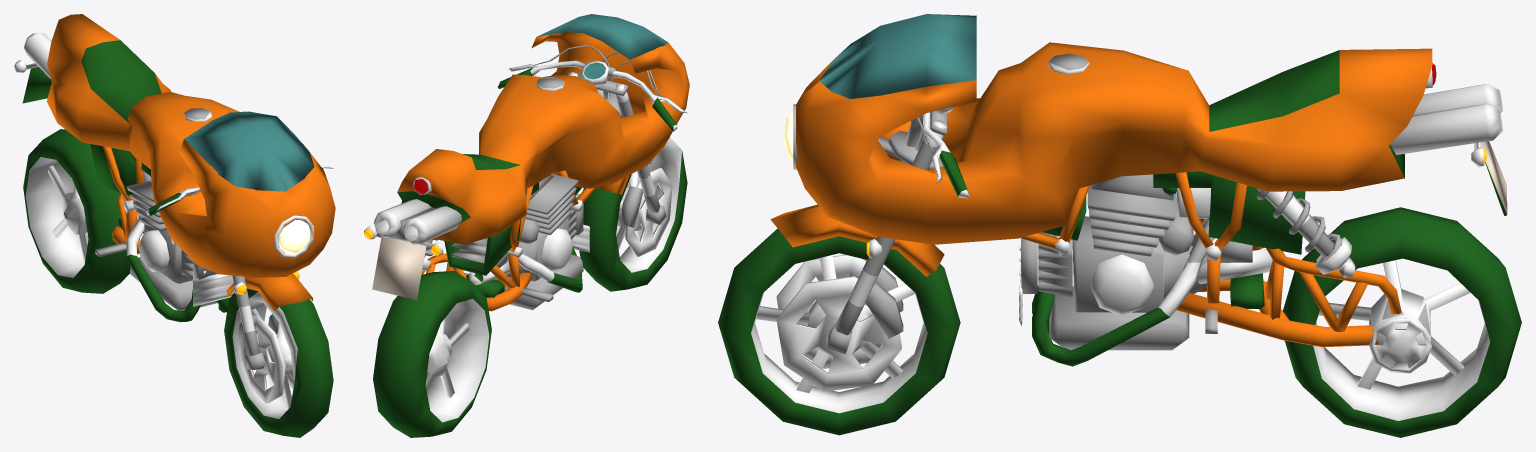
The model's file is sonmotorsaparate.fbx.
The picture shows the model from 3 angles, left to right: view 1: azimuth 30°, elevation 25°; view 2: azimuth 150°, elevation 25°; view 3: azimuth 270°, elevation 25°; orthographic projection. The views are drawn at different scales.
Parts seen in each view (by area): view 1: MotorBirlesik.121, TekerÖn, TekerArka; view 2: MotorBirlesik.121, TekerArka, TekerÖn; view 3: MotorBirlesik.121, TekerÖn, TekerArka.
Part boxes in pixels (x1=…): MotorBirlesik.121: x1=14, y1=14, x2=335, y2=355; TekerÖn: x1=224, y1=273, x2=333, y2=437; TekerArka: x1=23, y1=129, x2=139, y2=293; MotorBirlesik.121: x1=364, y1=14, x2=689, y2=311; TekerArka: x1=373, y1=271, x2=491, y2=437; TekerÖn: x1=579, y1=137, x2=687, y2=291; MotorBirlesik.121: x1=783, y1=14, x2=1507, y2=366; TekerÖn: x1=718, y1=204, x2=960, y2=435; TekerArka: x1=1283, y1=207, x2=1521, y2=437.
Size of the model in its own units: 21.46 by 32.74 by 58.64.
